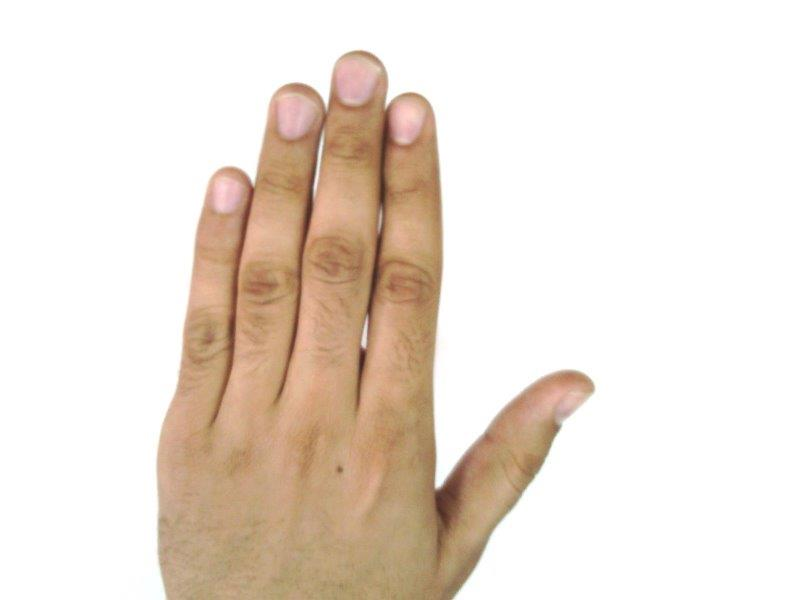hand: (157, 50, 594, 600)
